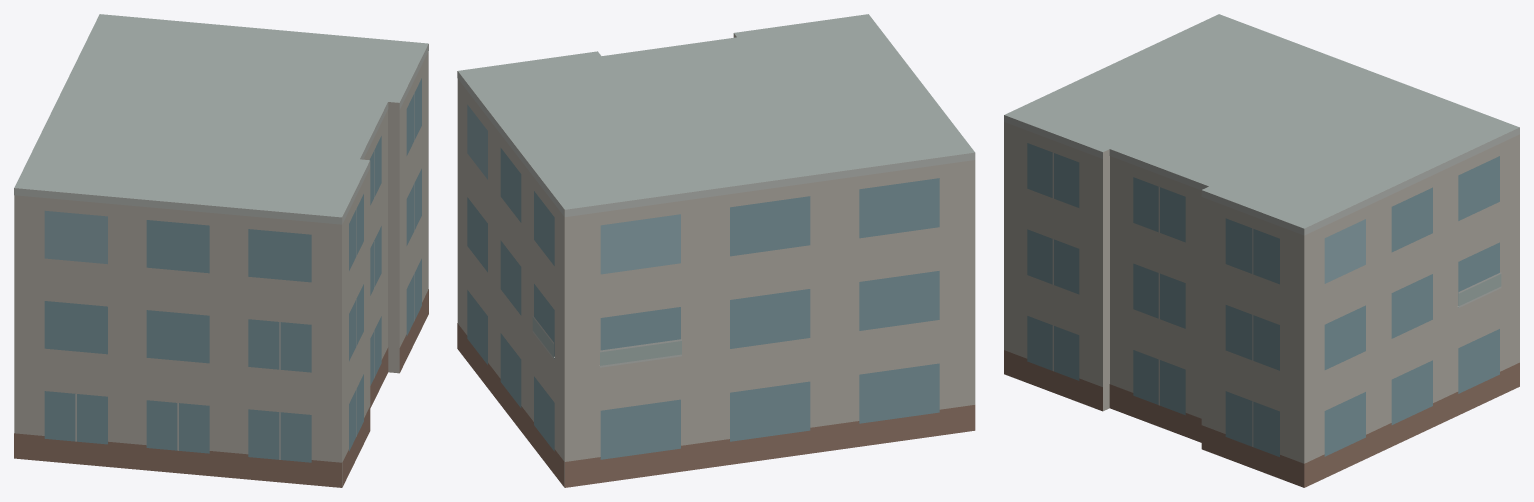
The model's file is survey-upis-32698039.glb.
The picture shows the model from 3 angles, left to right: view 1: azimuth 30°, elevation 25°; view 2: azimuth 150°, elevation 25°; view 3: azimuth 270°, elevation 25°; orthographic projection. The views are drawn at different scales.
Visible parts, largest first — view 1: survey-upis-32698039.tmp; view 2: survey-upis-32698039.tmp; view 3: survey-upis-32698039.tmp.
Part boxes in pixels (left/top/right/bottom): survey-upis-32698039.tmp: left=14, top=14, right=428, bottom=487; survey-upis-32698039.tmp: left=457, top=14, right=975, bottom=487; survey-upis-32698039.tmp: left=1004, top=14, right=1519, bottom=487.
Bounding box in the file's own units: 16.26 × 9.15 × 16.51.
